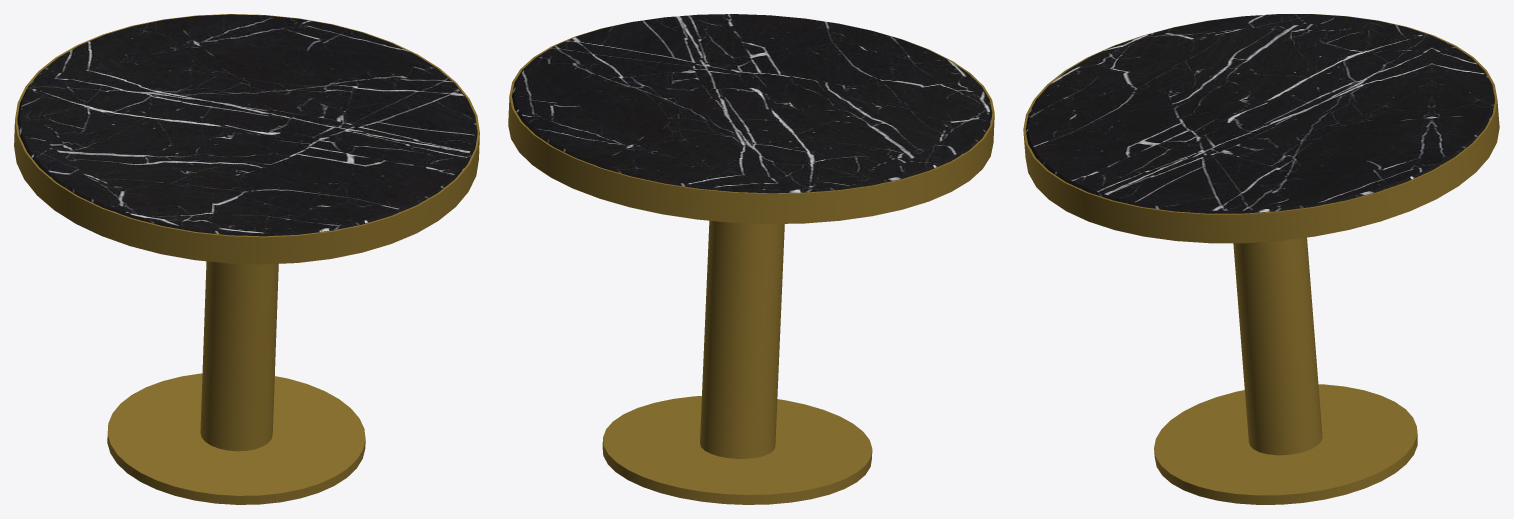
Rendered from side-table-round.glb.
3 renders of one model, left to right at view 1: azimuth 30°, elevation 25°; view 2: azimuth 150°, elevation 25°; view 3: azimuth 270°, elevation 25°, orthographic. The views are drawn at different scales.
Visible parts, largest first — view 1: Object_3, Object_4; view 2: Object_3, Object_4; view 3: Object_3, Object_4.
Part boxes in pixels (x1=…): Object_3: x1=17, y1=14, x2=477, y2=236; Object_4: x1=14, y1=14, x2=479, y2=504; Object_3: x1=512, y1=14, x2=991, y2=193; Object_4: x1=508, y1=22, x2=994, y2=504; Object_3: x1=1026, y1=14, x2=1494, y2=213; Object_4: x1=1023, y1=14, x2=1499, y2=504.
Size of the model in its own units: 0.4976 by 0.4202 by 0.5.
3 materials, 3 textured.
